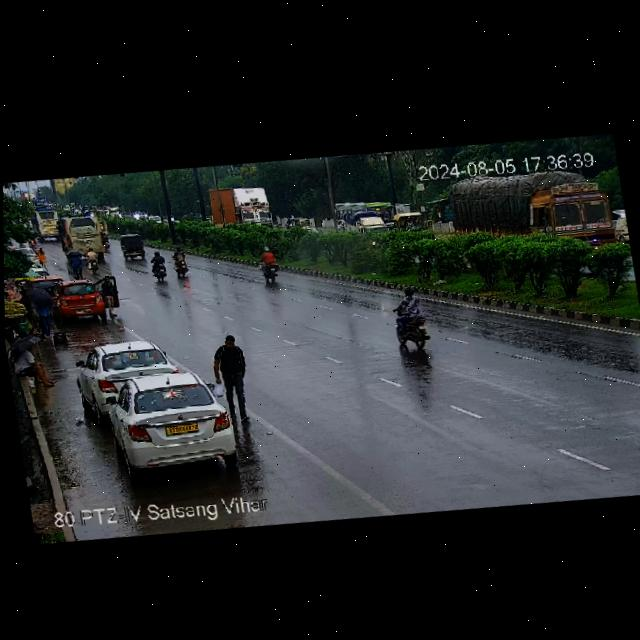bus: (53, 209, 114, 262), (328, 193, 397, 233), (32, 207, 62, 239)
car: (110, 363, 239, 471), (77, 333, 180, 410), (53, 279, 109, 323), (118, 231, 149, 261), (290, 213, 312, 232)
motorcycle: (382, 282, 441, 355), (255, 246, 288, 286), (169, 248, 198, 279), (148, 252, 174, 283)
person: (206, 332, 258, 424), (9, 337, 58, 391), (29, 286, 62, 339)
truck: (443, 160, 617, 262), (202, 181, 279, 235)
